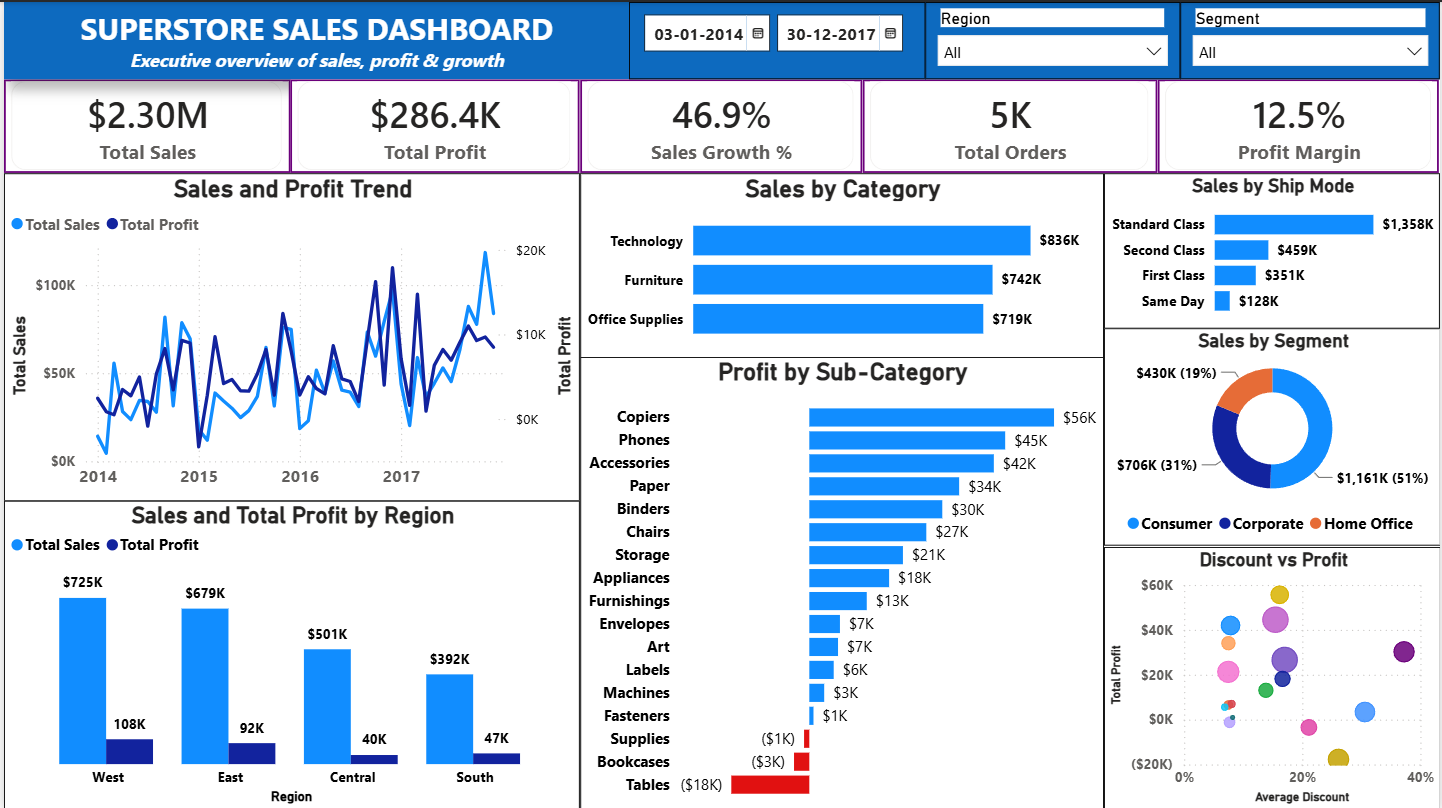

Layout of this report page (visuals, bound fields, positions):
{"tool":"powerbi","page":{"name":"Dashboard","canvas":[1280,720],"ordinal":0},"visuals":[{"type":"cardVisual","fields":{"Data":["Superstore.Total Sales"]},"box":[0,68.7,255.2,83.4],"z":0},{"type":"textbox","box":[0,0,557.1,68.7],"z":1000},{"type":"cardVisual","fields":{"Data":["Superstore.Total Profit"]},"box":[255.2,68.7,257.7,83.4],"z":2000},{"type":"cardVisual","fields":{"Data":["Superstore.Sales Growth %"]},"box":[512.9,68.7,251.5,83.4],"z":3000},{"type":"cardVisual","fields":{"Data":["Superstore.Total Orders"]},"box":[764.4,68.7,262.6,83.4],"z":4000},{"type":"cardVisual","fields":{"Data":["Superstore.Profit Margin"]},"box":[1027,68.7,251.5,83.4],"z":5000},{"type":"lineChart","title":"Sales and Profit Trend","fields":{"Category":["Superstore.Order Date.Variation.Date Hierarchy.Year","Superstore.Order Date.Variation.Date Hierarchy.Month"],"Y":["Superstore.Total Sales"],"Y2":["Superstore.Total Profit"]},"box":[0,152.5,513.2,291.7],"z":6000},{"type":"clusteredBarChart","title":"Sales by Category","fields":{"Category":["Superstore.Category"],"Y":["Superstore.Total Sales"]},"box":[512.9,152.1,466.3,164.4],"z":7000},{"type":"clusteredBarChart","title":"Profit by Sub-Category","fields":{"Category":["Superstore.Sub-Category"],"Y":["Superstore.Total Profit"]},"box":[512.9,316.6,466.3,403.7],"z":8000},{"type":"donutChart","title":"Sales by Segment","fields":{"Category":["Superstore.Segment"],"Y":["Superstore.Total Sales"]},"box":[979.1,290.7,300.6,193.9],"z":9000},{"type":"clusteredColumnChart","title":"Sales and Total Profit by Region","fields":{"Category":["Superstore.Region"],"Y":["Superstore.Total Sales","Superstore.Total Profit"]},"box":[0,444.2,513.2,276.1],"z":10000},{"type":"scatterChart","title":"Discount vs Profit","fields":{"Series":["Superstore.Sub-Category"],"Size":["Superstore.Total Sales"],"X":["Superstore.Average Discount"],"Y":["Superstore.Total Profit"]},"box":[979.1,484.9,301.2,234.9],"z":11000},{"type":"slicer","fields":{"Values":["Superstore.Region"]},"box":[820.9,0,227,68.7],"z":12000},{"type":"slicer","fields":{"Values":["Superstore.Segment"]},"box":[1047.9,0,231.9,68.7],"z":13000},{"type":"slicer","fields":{"Values":["Superstore.Order Date"]},"box":[557.1,0,263.8,68.7],"z":14000},{"type":"clusteredBarChart","title":"Sales by Ship Mode","fields":{"Category":["Superstore.Ship Mode"],"Y":["Superstore.Total Sales"]},"box":[979.1,152.3,300,138.4],"z":14001}]}

Visuals, with their boxes in screenshot pixels (x1, y1, x2, y2), scaled from the page's 1280x720 canvas onto the 1442x808 screenshot:
cardVisual - Superstore.Total Sales: [0, 77, 287, 171]
textbox: [0, 0, 628, 77]
cardVisual - Superstore.Total Profit: [287, 77, 578, 171]
cardVisual - Superstore.Sales Growth %: [578, 77, 861, 171]
cardVisual - Superstore.Total Orders: [861, 77, 1157, 171]
cardVisual - Superstore.Profit Margin: [1157, 77, 1440, 171]
"Sales and Profit Trend" lineChart: [0, 171, 578, 498]
"Sales by Category" clusteredBarChart: [578, 171, 1103, 355]
"Profit by Sub-Category" clusteredBarChart: [578, 355, 1103, 807]
"Sales by Segment" donutChart: [1103, 326, 1441, 544]
"Sales and Total Profit by Region" clusteredColumnChart: [0, 498, 578, 807]
"Discount vs Profit" scatterChart: [1103, 544, 1441, 807]
slicer - Superstore.Region: [925, 0, 1181, 77]
slicer - Superstore.Segment: [1181, 0, 1441, 77]
slicer - Superstore.Order Date: [628, 0, 925, 77]
"Sales by Ship Mode" clusteredBarChart: [1103, 171, 1441, 326]
